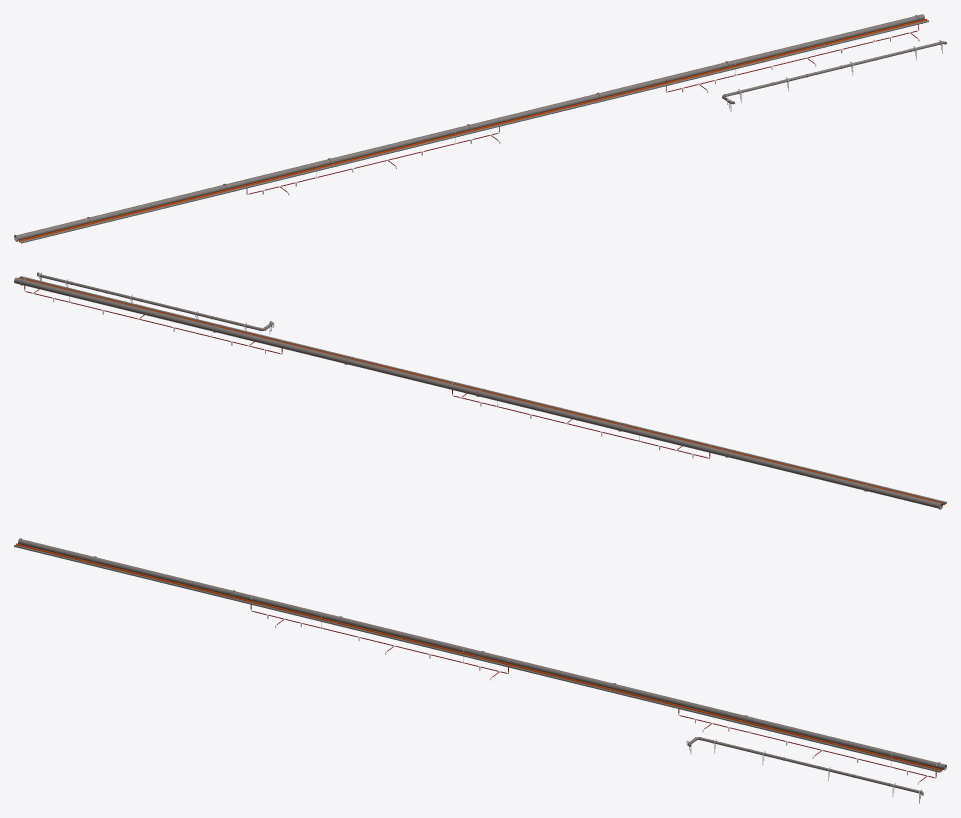
Rendered from SM_H_Building_Tide_OfficeLobby_01F_ATLAS.fbx.
The picture shows the model from 3 angles, top to bottom: view 1: azimuth 30°, elevation 25°; view 2: azimuth 150°, elevation 25°; view 3: azimuth 330°, elevation 25°; orthographic projection.
Visible parts, largest first — view 1: SM_H_Building_Tide_OfficeLobby_01F_ATLAS; view 2: SM_H_Building_Tide_OfficeLobby_01F_ATLAS; view 3: SM_H_Building_Tide_OfficeLobby_01F_ATLAS.
Part boxes in pixels (bbox=[...]): SM_H_Building_Tide_OfficeLobby_01F_ATLAS: bbox=[14, 14, 946, 243]; SM_H_Building_Tide_OfficeLobby_01F_ATLAS: bbox=[14, 272, 946, 509]; SM_H_Building_Tide_OfficeLobby_01F_ATLAS: bbox=[14, 538, 946, 803].
Bounding box in the file's own units: 7669 × 481 × 190.
